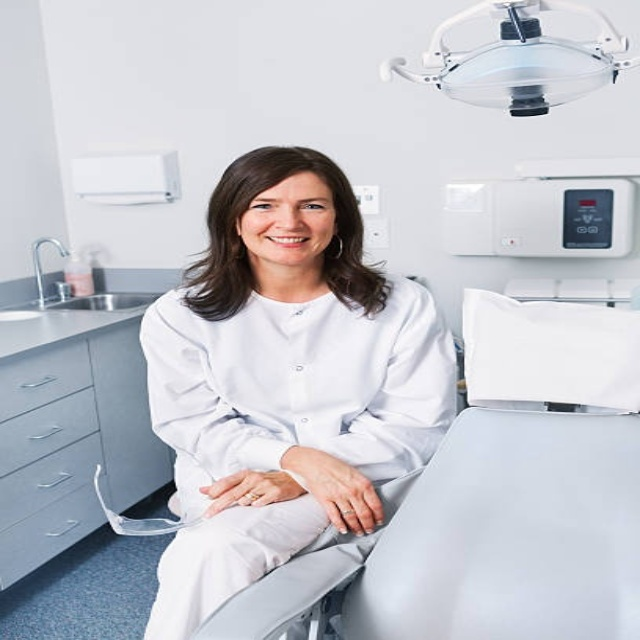Sin_gafas: (248, 192, 329, 215)
Sin_guantes: (286, 457, 386, 536), (200, 468, 304, 520)
Sin_mascara: (256, 229, 322, 260)
